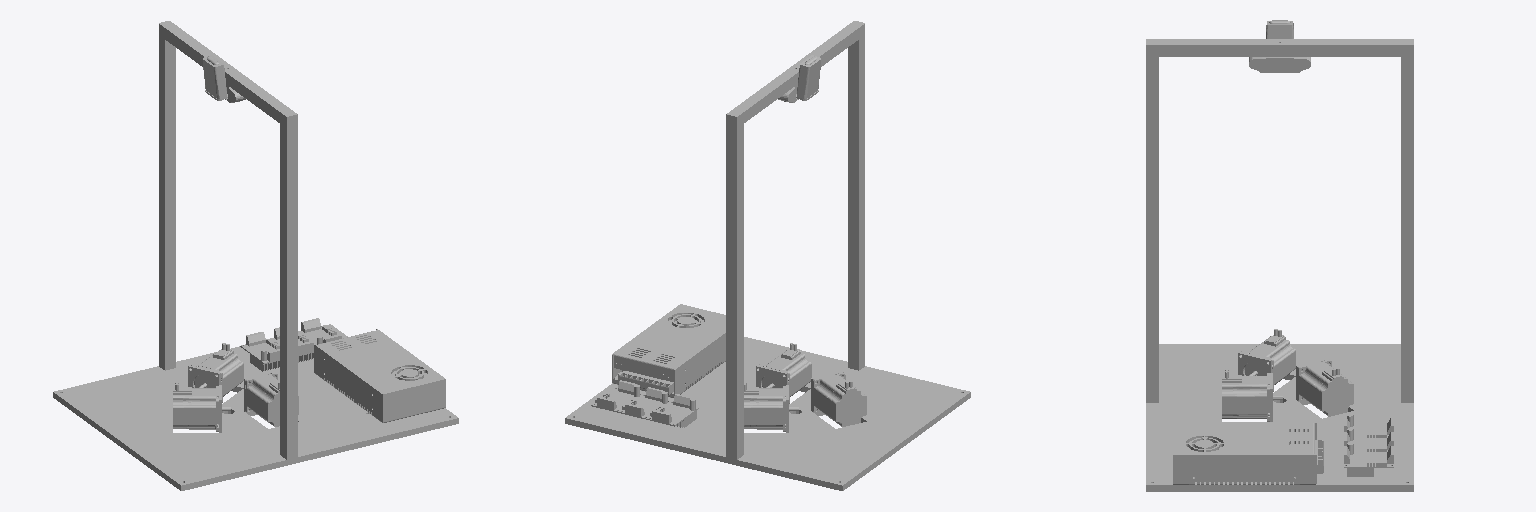
The robot description file, URDF, robot "fullbase.SLDASM":
<robot
  name="fullbase.SLDASM">
  <link
    name="base_link">
    <inertial>
      <origin
        xyz="-0.00272668842272513 0.201771075946194 -0.544767933754002"
        rpy="0 0 0" />
      <mass
        value="14.0238769472985" />
      <inertia
        ixx="0.288734875235048"
        ixy="0.0283792020858407"
        ixz="0.00795004365500269"
        iyy="0.217806303756669"
        iyz="-0.0427397354761643"
        izz="0.264931657655938" />
    </inertial>
    <visual>
      <origin
        xyz="0 0 0"
        rpy="0 0 0" />
      <geometry>
        <mesh
          filename="package://fullbase.SLDASM/meshes/base_link.STL" />
      </geometry>
      <material
        name="">
        <color
          rgba="0.752941176470588 0.752941176470588 0.752941176470588 1" />
      </material>
    </visual>
    <collision>
      <origin
        xyz="0 0 0"
        rpy="0 0 0" />
      <geometry>
        <mesh
          filename="package://fullbase.SLDASM/meshes/base_link.STL" />
      </geometry>
    </collision>
  </link>
</robot>

--- Render facts (derived) ---
3 views of the same robot in one strip: view 1: azimuth 30°, elevation 25°; view 2: azimuth 150°, elevation 25°; view 3: azimuth 270°, elevation 25° (orthographic).
Model fullbase.SLDASM with 1 links and 0 joints (none), rooted at base_link, posed every joint at zero.
Links seen in each view (by area): view 1: base_link; view 2: base_link; view 3: base_link.
Boxes of the visible links, bbox=[...] form: base_link: bbox=[53, 21, 458, 490]; base_link: bbox=[565, 21, 970, 490]; base_link: bbox=[1146, 20, 1413, 491].
Bounding box of the posed robot: 0.5 × 0.4 × 0.6222 m (x, y, z).
Meshes: 1 distinct files referenced, 1 mesh visuals loaded (1 binary STL).